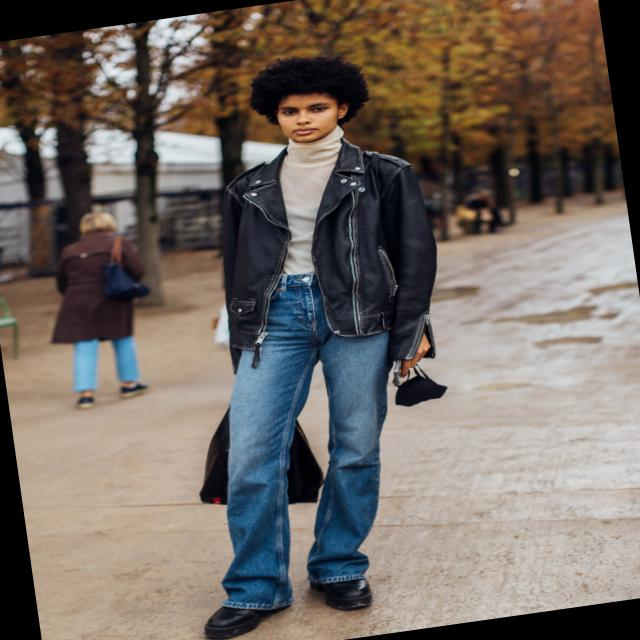Jacket: (155, 122, 482, 384)
